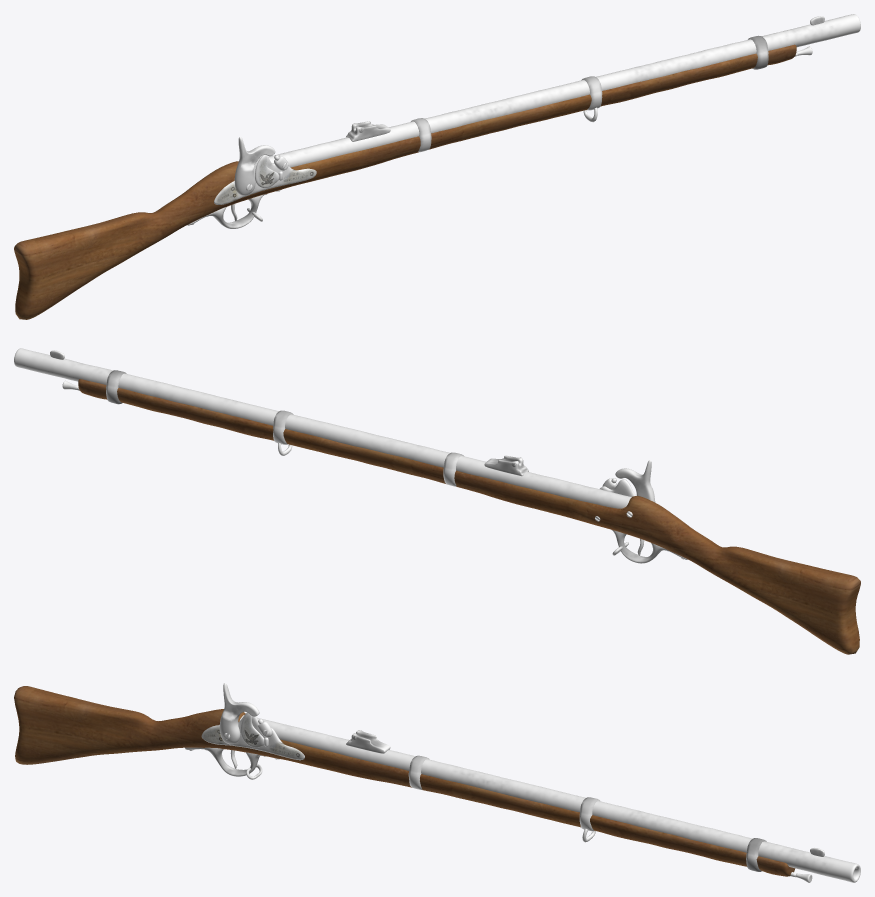
The model's file is Musket 01.fbx.
3 views of the same model, one above another, from view 1: azimuth 30°, elevation 25°; view 2: azimuth 150°, elevation 25°; view 3: azimuth 330°, elevation 25° (orthographic).
Visible parts, largest first — view 1: Musket_10, Musket_07; view 2: Musket_10, Musket_07; view 3: Musket_10, Musket_07.
Part boxes in pixels (x1=…): Musket_10: x1=14, y1=44, x2=796, y2=319; Musket_07: x1=187, y1=14, x2=860, y2=228; Musket_10: x1=78, y1=379, x2=860, y2=654; Musket_07: x1=14, y1=348, x2=687, y2=563; Musket_10: x1=14, y1=686, x2=795, y2=876; Musket_07: x1=185, y1=683, x2=860, y2=882.
Bounding box in the file's own units: 3223 × 502 × 129.
Materials: 2 (2 with a texture image).
